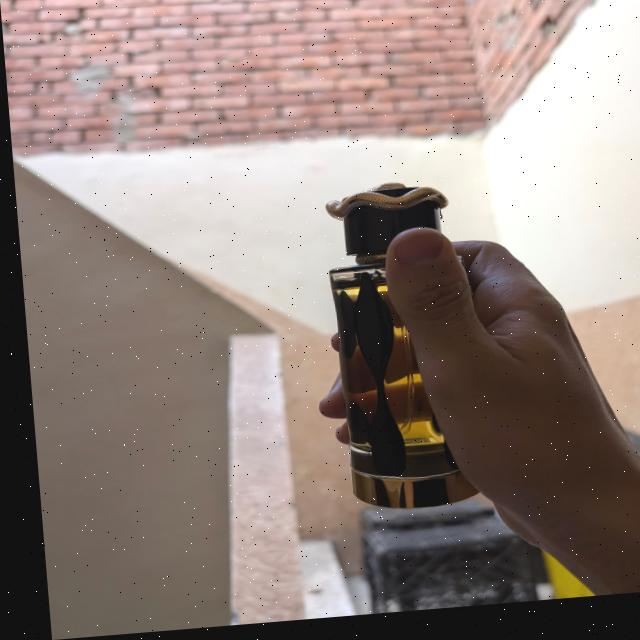Teriaq-Intense: (317, 184, 473, 520)
